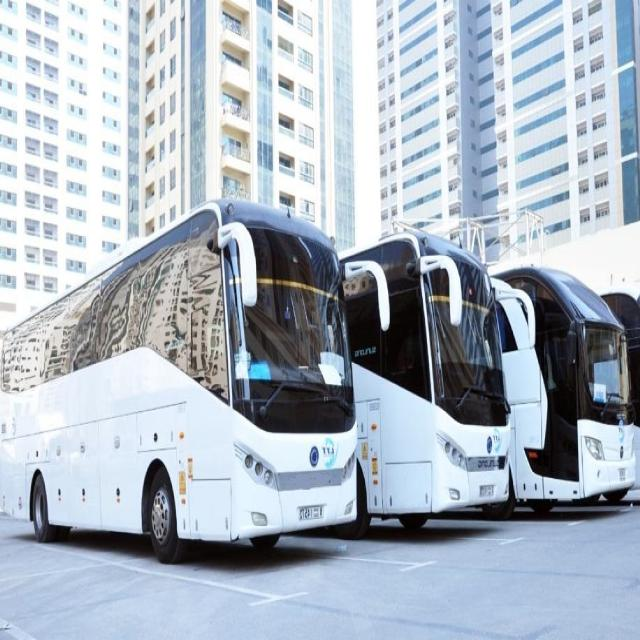bus: (0, 198, 388, 566), (394, 233, 538, 533), (545, 266, 636, 516)
